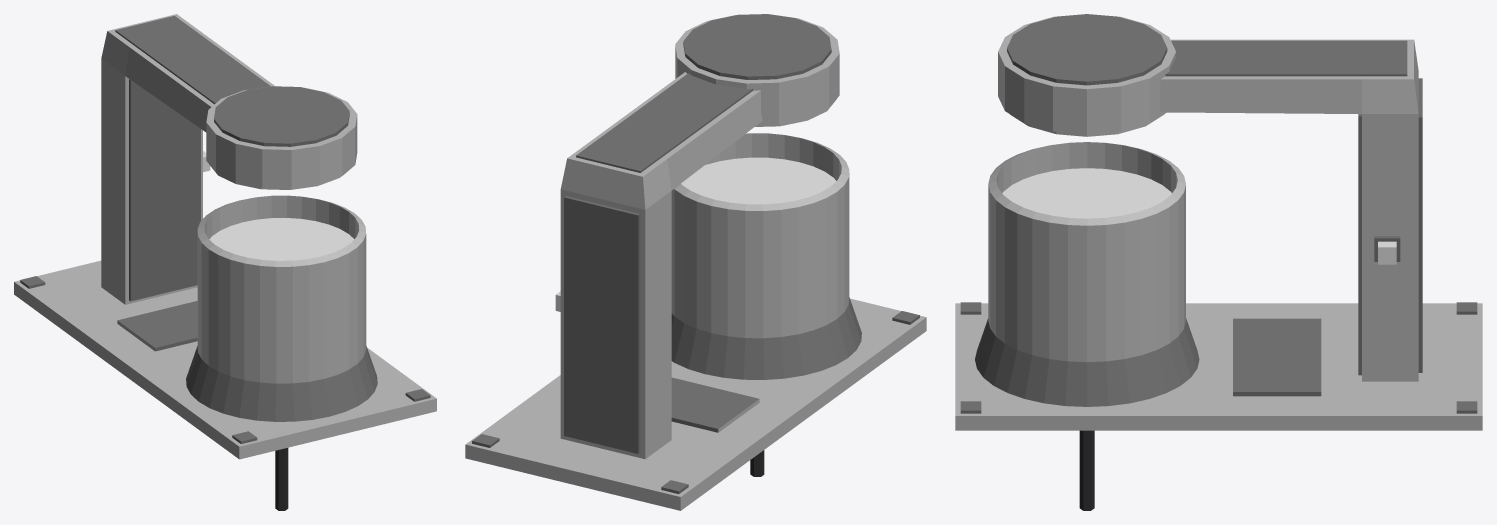
File: mixer-animation.glb
3 views of the same model, side by side, from view 1: azimuth 30°, elevation 25°; view 2: azimuth 150°, elevation 25°; view 3: azimuth 270°, elevation 25° (orthographic). The views are drawn at different scales.
Visible parts, largest first — view 1: paintholder, arm, base, head, paintcolor, stick; view 2: arm, paintholder, base, head, paintcolor; view 3: paintholder, base, arm, head, paintcolor, stick.
Boxes of the visible parts, left/top/right/bottom form: paintholder: left=186, top=195, right=377, bottom=421; arm: left=101, top=14, right=274, bottom=304; base: left=14, top=260, right=436, bottom=459; head: left=206, top=86, right=357, bottom=189; paintcolor: left=209, top=218, right=354, bottom=260; stick: left=275, top=448, right=288, bottom=510; arm: left=560, top=72, right=762, bottom=459; paintholder: left=671, top=133, right=861, bottom=379; base: left=465, top=298, right=926, bottom=510; head: left=675, top=14, right=839, bottom=126; paintcolor: left=681, top=157, right=836, bottom=204; paintholder: left=975, top=142, right=1199, bottom=406; base: left=955, top=302, right=1482, bottom=430; arm: left=1160, top=39, right=1422, bottom=381; head: left=998, top=14, right=1175, bottom=136; paintcolor: left=1002, top=168, right=1171, bottom=218; stick: left=1079, top=430, right=1094, bottom=510.
Size of the model in its own units: 4.05 by 7.71 by 8.
Materials: 1 (1 with a texture image).
